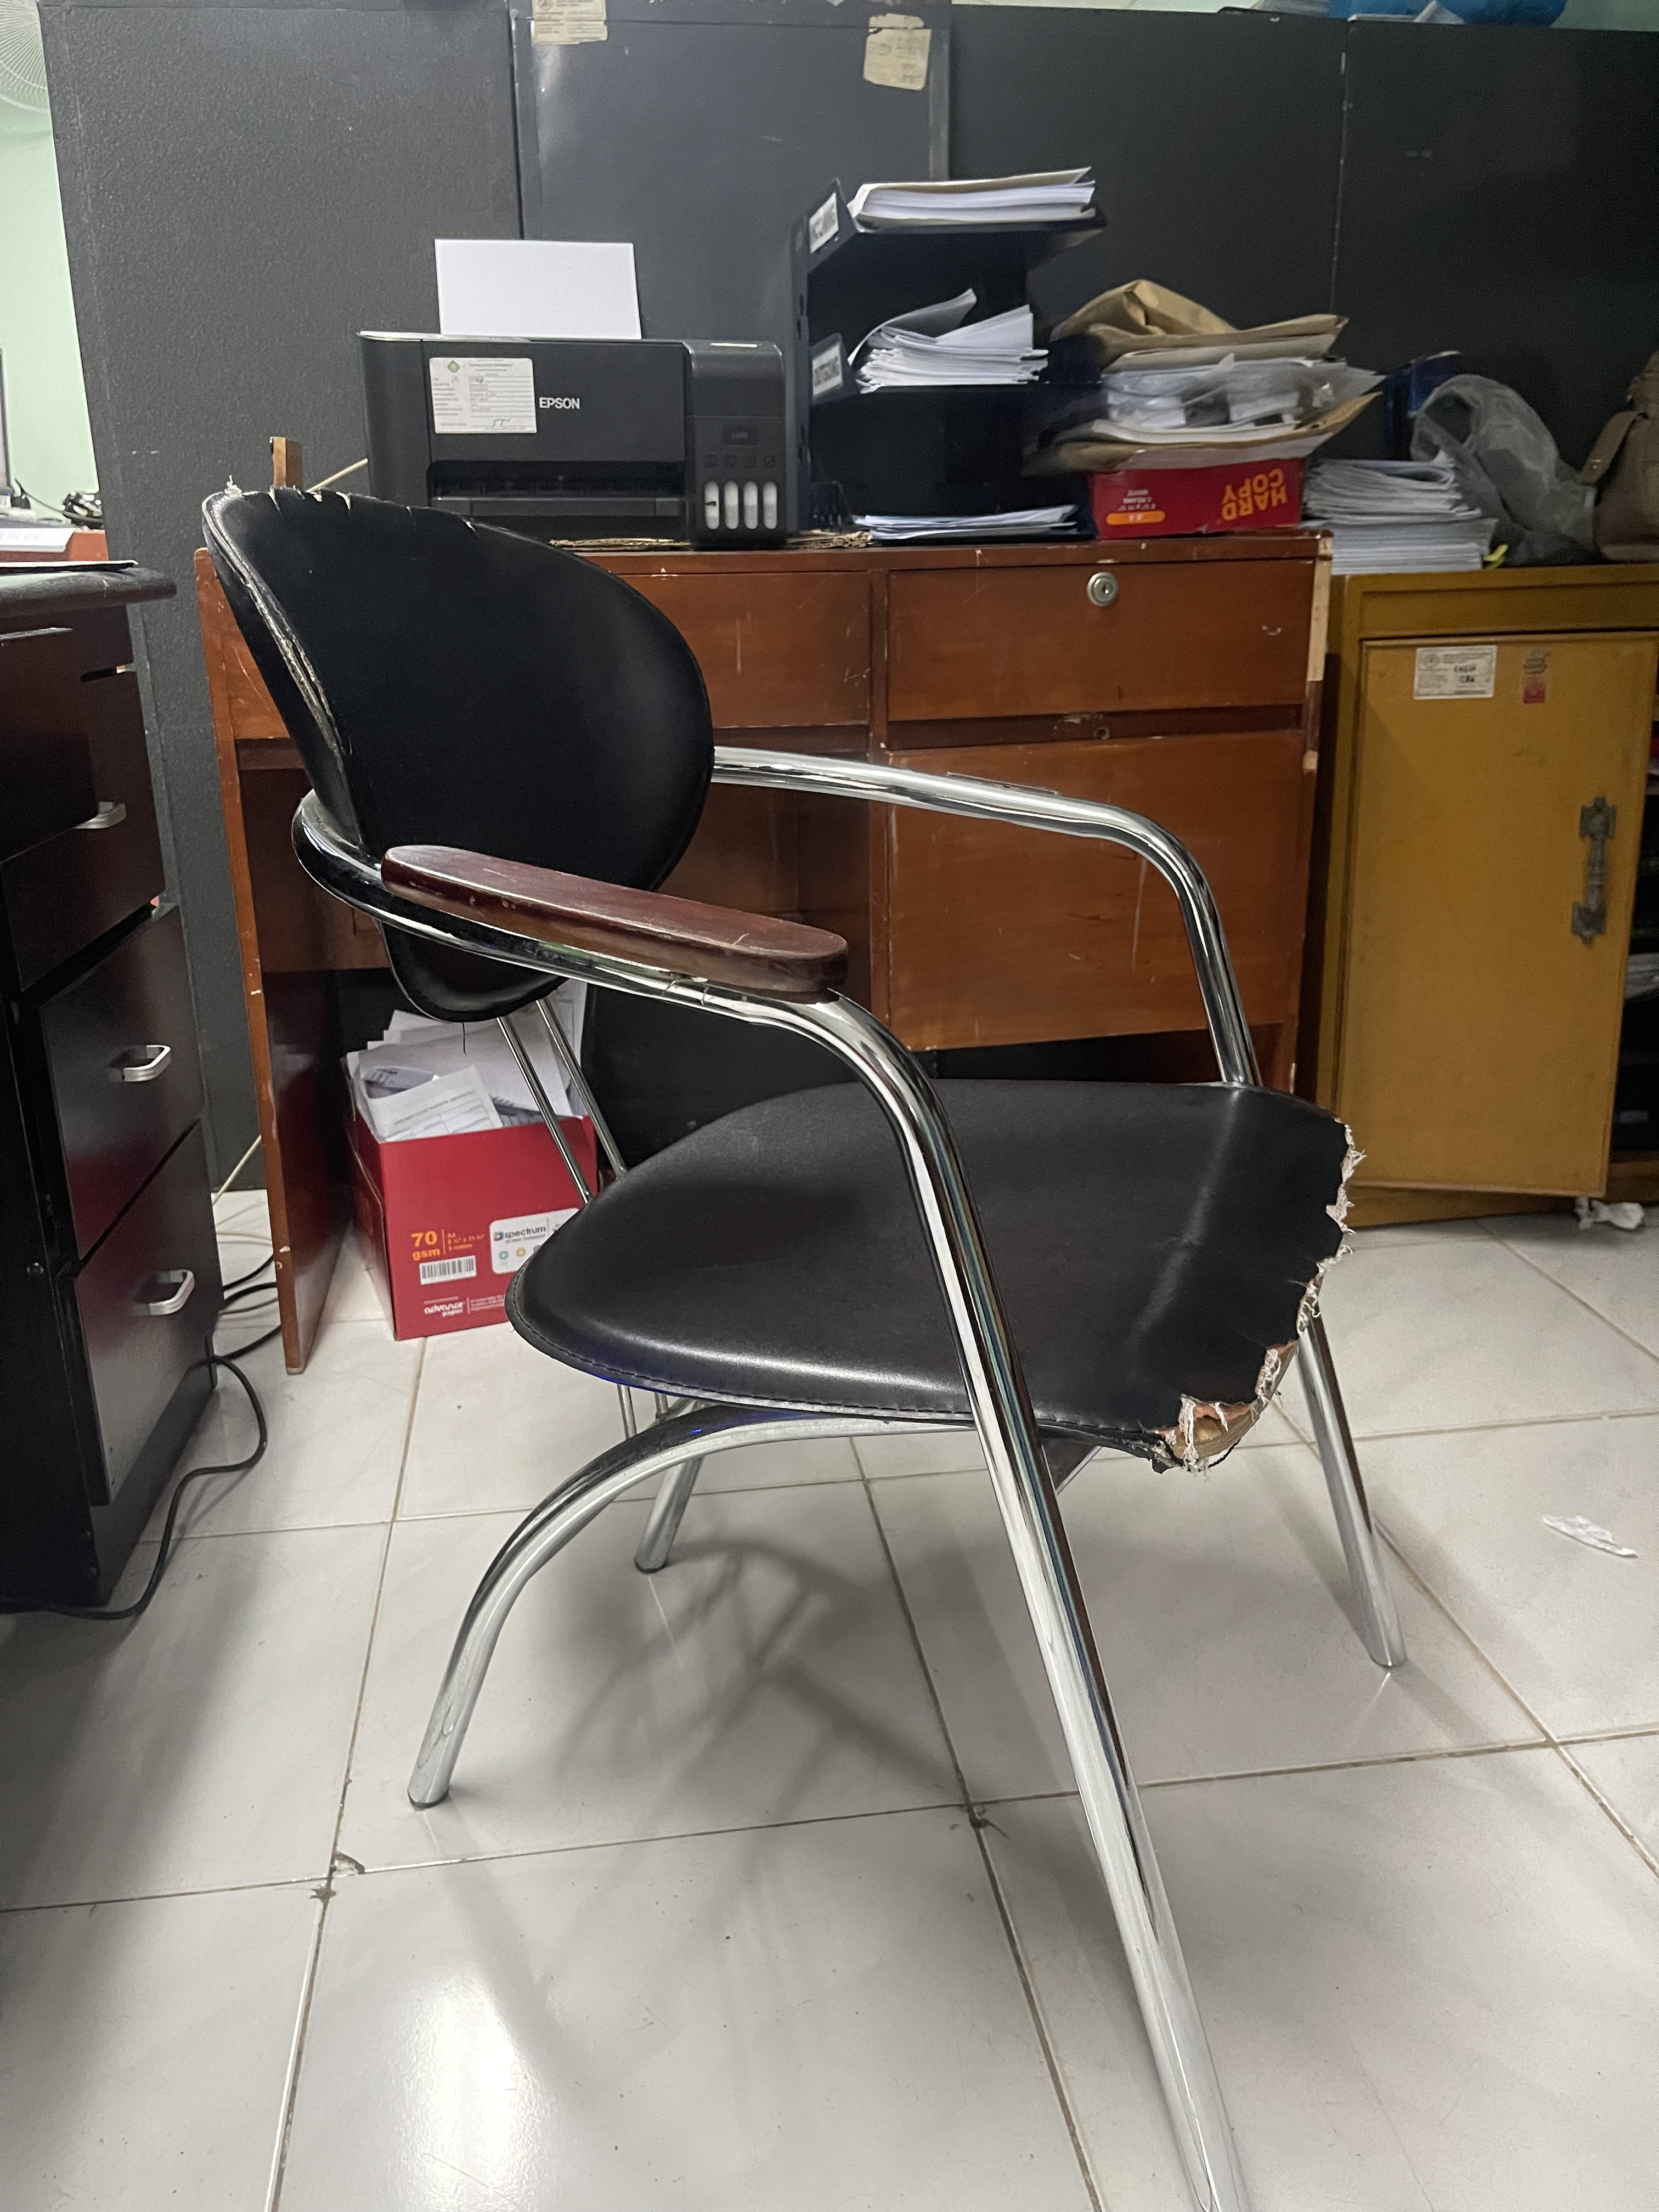chair1: (195, 475, 1412, 2212)
